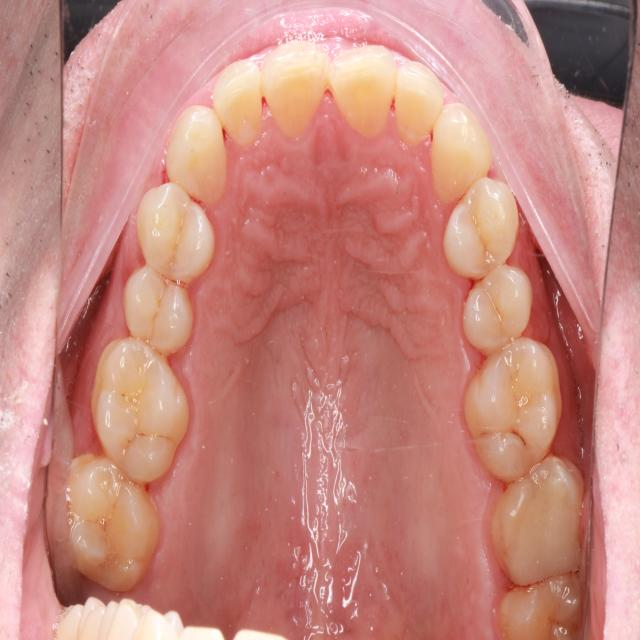tooth: (84, 333, 197, 489), (64, 438, 171, 601), (462, 336, 569, 486), (478, 443, 586, 589), (427, 154, 526, 289), (127, 179, 225, 290), (422, 79, 491, 215), (258, 36, 336, 156), (459, 249, 544, 359), (321, 39, 405, 148), (119, 260, 206, 358), (164, 106, 241, 209), (490, 565, 590, 639), (211, 49, 274, 165), (393, 44, 444, 167)
